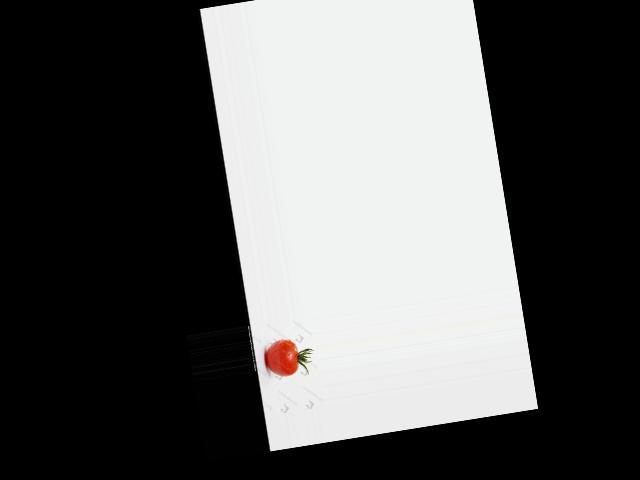tomato: (263, 338, 300, 379)
